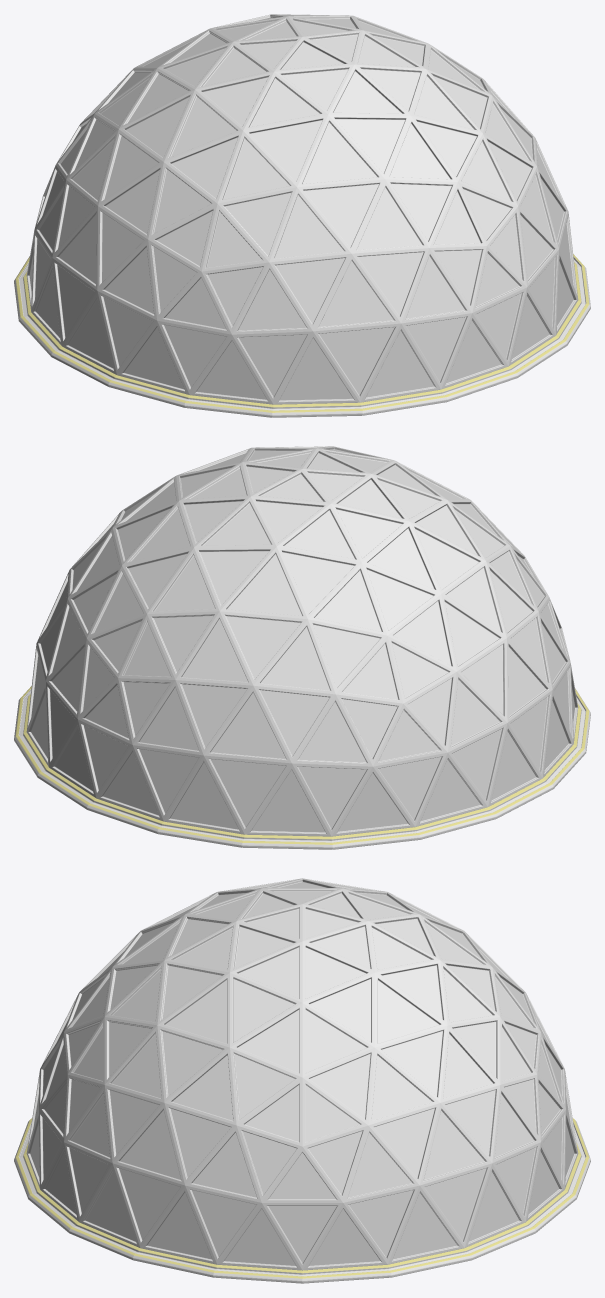
The model's file is купол.fbx.
The picture shows the model from 3 angles, top to bottom: view 1: azimuth 30°, elevation 25°; view 2: azimuth 150°, elevation 25°; view 3: azimuth 270°, elevation 25°; orthographic projection.
Parts seen in each view (by area): view 1: Icosphere.001; view 2: Icosphere.001; view 3: Icosphere.001.
Part boxes in pixels (x1,y1,x2,y2): Icosphere.001: [14, 14, 590, 417]; Icosphere.001: [14, 446, 590, 849]; Icosphere.001: [14, 878, 590, 1283].
Bounding box in the file's own units: 413 × 204 × 413.
